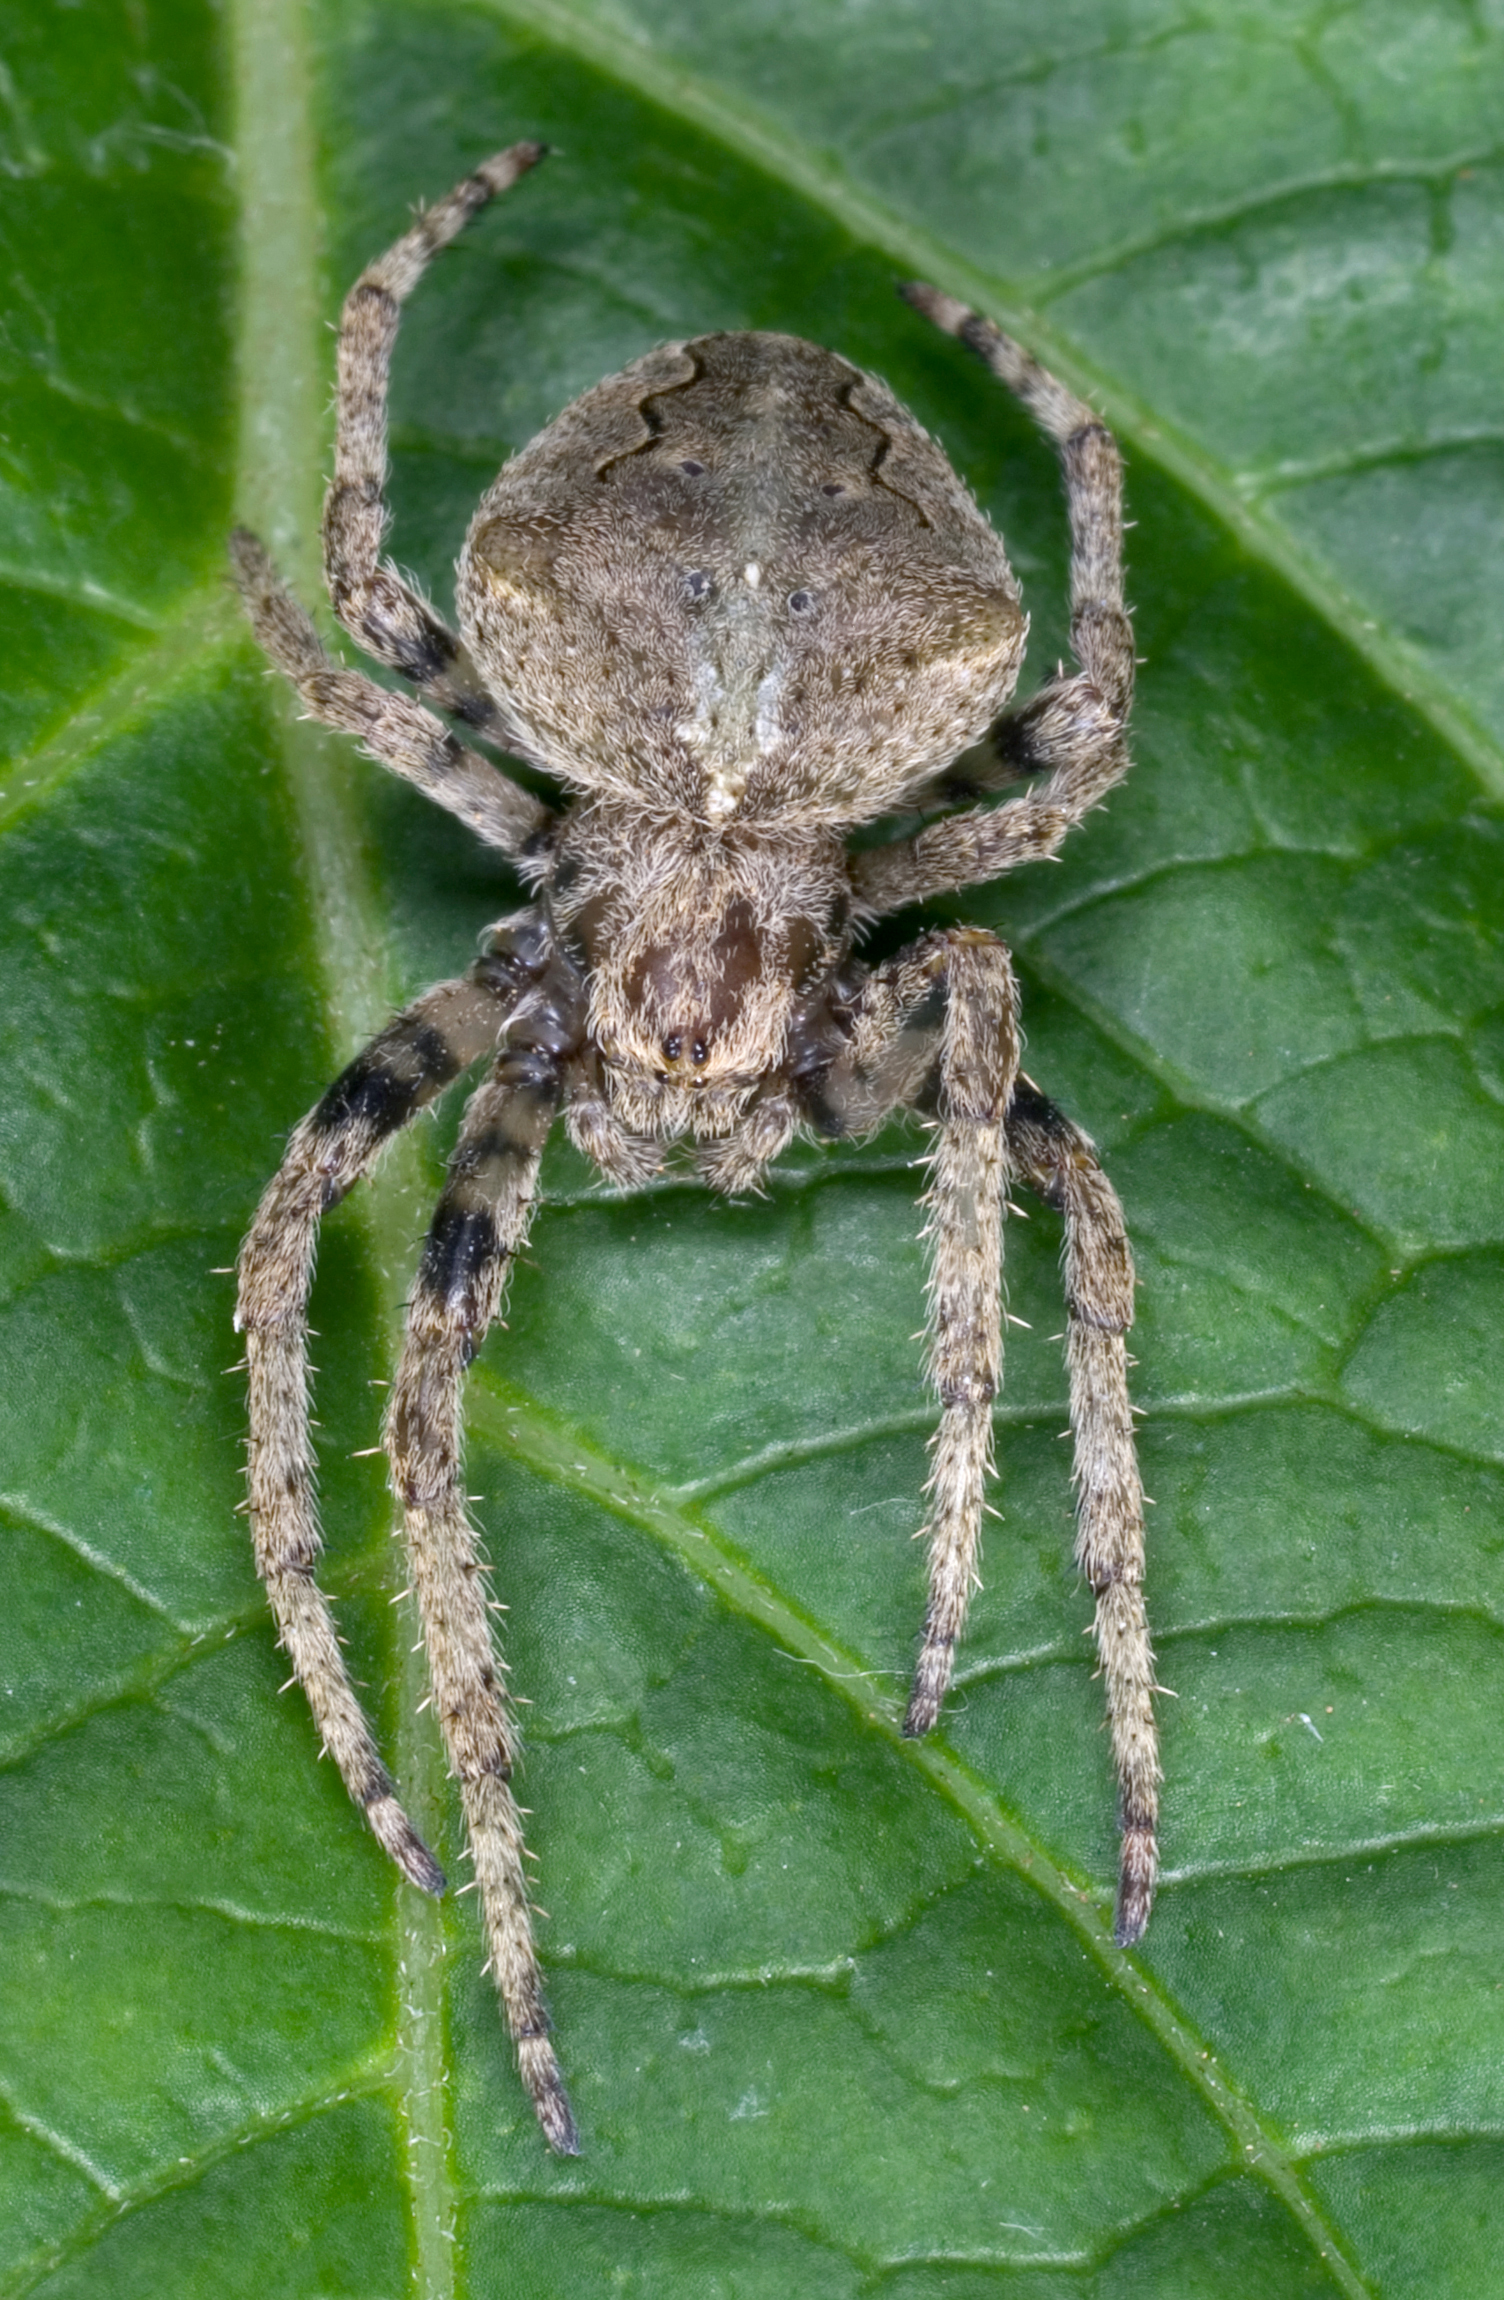spider: (112, 71, 1257, 2188)
